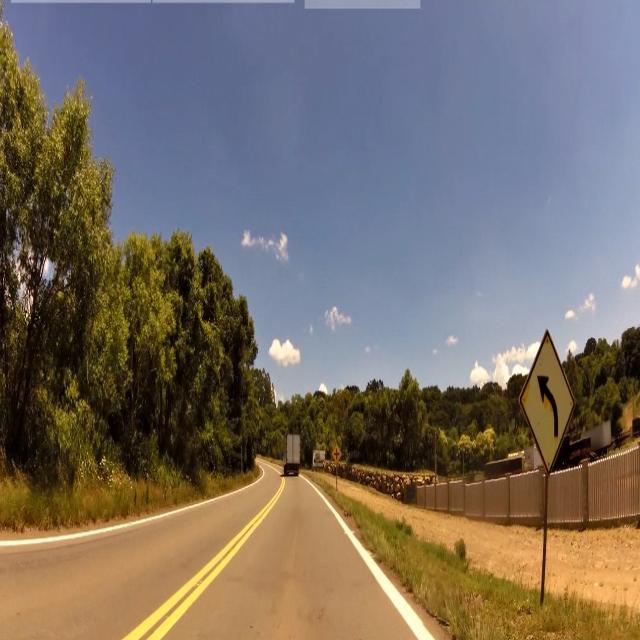A-2a: (520, 333, 576, 467)
A-6: (333, 443, 341, 460)
